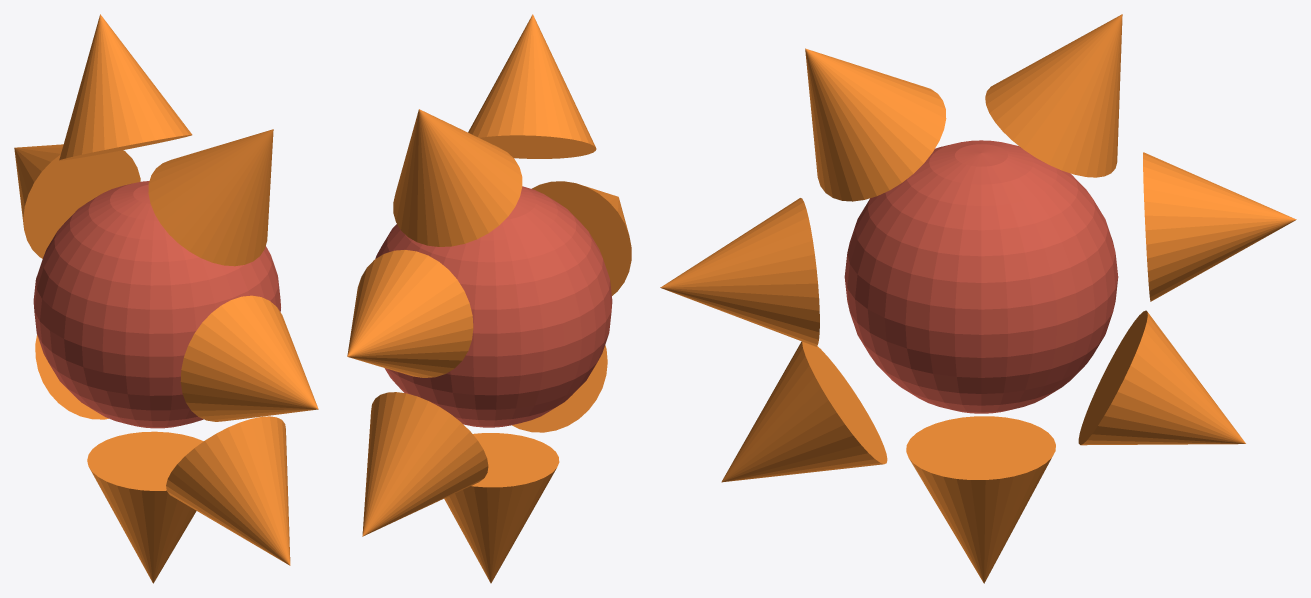
Rendered from kojaemItem.glb.
3 renders of one model, left to right at view 1: azimuth 30°, elevation 25°; view 2: azimuth 150°, elevation 25°; view 3: azimuth 270°, elevation 25°, orthographic. The views are drawn at different scales.
Parts seen in each view (by area): view 1: 구체, 원뿔.004, 원뿔.005, 원뿔.003, 원뿔.006, 원뿔.002, 원뿔, 원뿔.001; view 2: 구체, 원뿔, 원뿔.006, 원뿔.001, 원뿔.005, 원뿔.002, 원뿔.004, 원뿔.003; view 3: 구체, 원뿔.005, 원뿔.002, 원뿔.006, 원뿔.003, 원뿔.001, 원뿔.004, 원뿔.
Boxes of the visible parts, x1,y1,x2,y2 form: 구체: (33, 181, 280, 428); 원뿔.004: (180, 295, 318, 421); 원뿔.005: (148, 129, 273, 266); 원뿔.003: (166, 416, 290, 565); 원뿔.006: (59, 14, 192, 160); 원뿔.002: (87, 431, 203, 583); 원뿔: (14, 144, 140, 258); 원뿔.001: (35, 335, 108, 419); 구체: (375, 186, 612, 427); 원뿔: (347, 250, 473, 377); 원뿔.006: (393, 109, 522, 246); 원뿔.001: (362, 392, 488, 536); 원뿔.005: (468, 14, 596, 158); 원뿔.002: (444, 433, 559, 583); 원뿔.004: (531, 181, 631, 295); 원뿔.003: (512, 345, 607, 432); 구체: (844, 140, 1118, 413); 원뿔.005: (805, 48, 946, 201); 원뿔.002: (906, 416, 1055, 583); 원뿔.006: (985, 14, 1122, 177); 원뿔.003: (721, 341, 887, 482); 원뿔.001: (1078, 310, 1245, 445); 원뿔.004: (660, 198, 819, 346); 원뿔: (1143, 152, 1296, 301).
Size of the model in its own units: 3.64 by 8.45 by 8.48.
